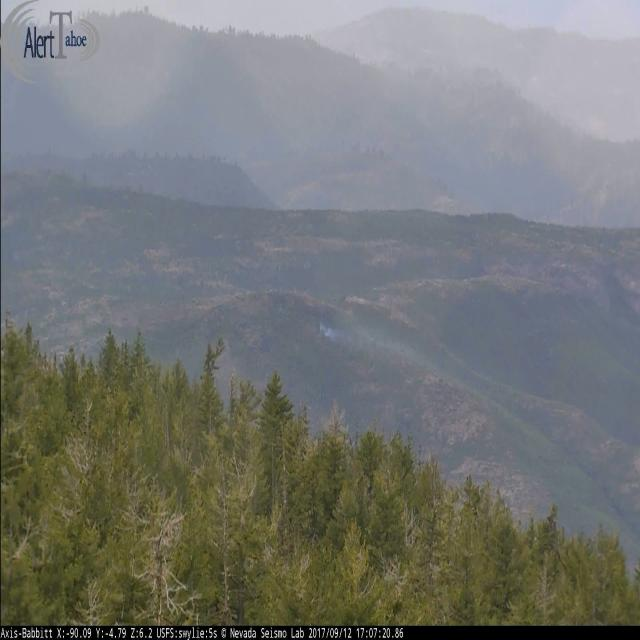smoke: (318, 320, 346, 346)
